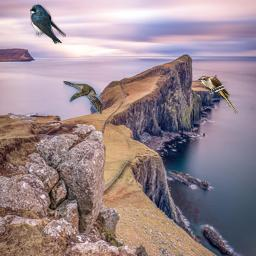Cuckoo: (198, 76, 238, 114), (63, 81, 102, 114)
Swallow: (30, 4, 66, 44)
